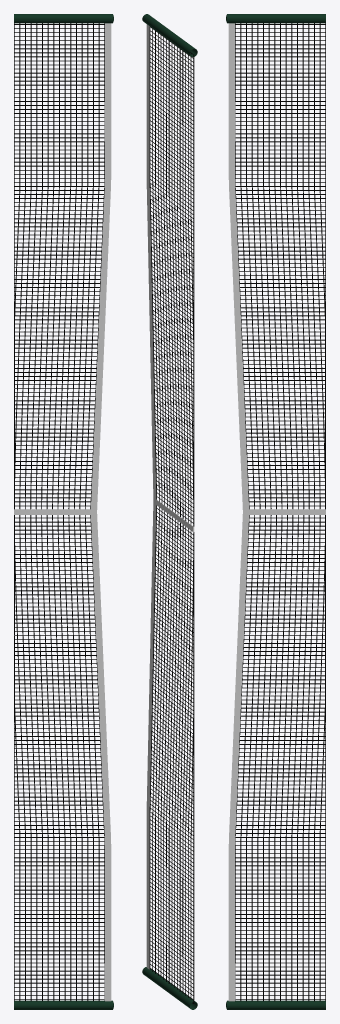
File: TennisNet.obj
The picture shows the model from 3 angles, left to right: view 1: azimuth 90°, elevation 25°; view 2: azimuth 210°, elevation 25°; view 3: azimuth 270°, elevation 25°; orthographic projection. The views are drawn at different scales.
Parts seen in each view (by area): view 1: Net_Plane.005, Post1_Cylinder, Post2_Cylinder.001; view 2: Net_Plane.005, Post1_Cylinder, Post2_Cylinder.001; view 3: Net_Plane.005, Post1_Cylinder, Post2_Cylinder.001.
Boxes of the visible parts, bbox=[...] form: Net_Plane.005: bbox=[14, 23, 111, 1001]; Post1_Cylinder: bbox=[14, 14, 113, 23]; Post2_Cylinder.001: bbox=[14, 1000, 113, 1009]; Net_Plane.005: bbox=[146, 24, 194, 1003]; Post1_Cylinder: bbox=[142, 14, 197, 56]; Post2_Cylinder.001: bbox=[142, 967, 197, 1009]; Net_Plane.005: bbox=[228, 23, 325, 1001]; Post1_Cylinder: bbox=[226, 14, 325, 23]; Post2_Cylinder.001: bbox=[226, 1000, 325, 1009].
Size of the model in its own units: 0.1016 by 12.1 by 1.1.
3 materials, 3 textured.
